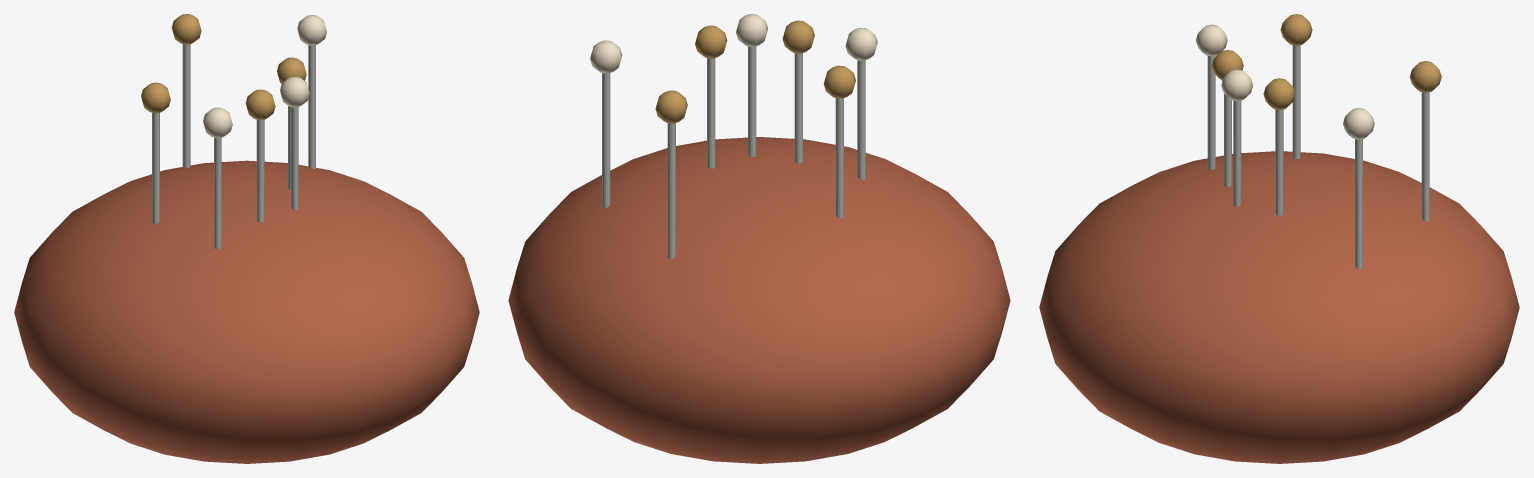
File: pin-cushion.glb
3 views of the same model, side by side, from view 1: azimuth 30°, elevation 25°; view 2: azimuth 150°, elevation 25°; view 3: azimuth 270°, elevation 25° (orthographic). The views are drawn at different scales.
Parts seen in each view (by area): view 1: cushion, pin-2, pin-5, pin-6, pin-1, pin-4, pin-3, pin-head-6, pin-head-1, pin-head-2, pin-head-4, pin-head-5 (+2 smaller); view 2: cushion, pin-2, pin-5, pin-4, pin-1, pin-0, pin-6, pin-3, pin-head-0, pin-head-5, pin-head-4, pin-head-6 (+3 smaller); view 3: cushion, pin-2, pin-5, pin-4, pin-1, pin-0, pin-3, pin-head-2, pin-head-5, pin-head-0, pin-head-3, pin-head-4 (+3 smaller).
Part boxes in pixels (x1,y1,x2,y2): cushion: [14, 160, 479, 463]; pin-2: [182, 44, 190, 168]; pin-5: [308, 45, 315, 168]; pin-6: [256, 120, 264, 222]; pin-1: [214, 137, 221, 249]; pin-4: [152, 112, 159, 223]; pin-3: [291, 107, 298, 209]; pin-head-6: [245, 89, 275, 120]; pin-head-1: [203, 107, 232, 138]; pin-head-2: [171, 14, 201, 44]; pin-head-4: [141, 82, 170, 113]; pin-head-5: [297, 15, 326, 45]; cushion: [508, 137, 1010, 463]; pin-2: [667, 123, 675, 259]; pin-5: [602, 73, 610, 208]; pin-4: [835, 98, 843, 218]; pin-1: [857, 60, 865, 179]; pin-0: [707, 58, 715, 168]; pin-6: [794, 53, 802, 163]; pin-3: [748, 46, 756, 156]; pin-head-0: [695, 25, 727, 58]; pin-head-5: [590, 40, 622, 73]; pin-head-4: [823, 65, 855, 98]; pin-head-6: [782, 20, 814, 53]; cushion: [1039, 151, 1519, 463]; pin-2: [1421, 92, 1429, 221]; pin-5: [1355, 139, 1362, 269]; pin-4: [1292, 45, 1300, 158]; pin-1: [1207, 56, 1215, 169]; pin-0: [1275, 109, 1283, 215]; pin-3: [1233, 100, 1241, 206]; pin-head-2: [1410, 61, 1441, 92]; pin-head-5: [1343, 108, 1374, 139]; pin-head-0: [1263, 78, 1295, 109]; pin-head-3: [1221, 69, 1252, 101]; pin-head-4: [1280, 14, 1312, 45].
Bounding box in the file's own units: 0.36 × 0.306 × 0.36.
